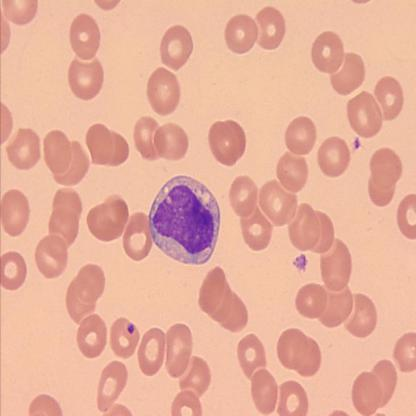Myelocyte: (150, 174, 218, 262)
